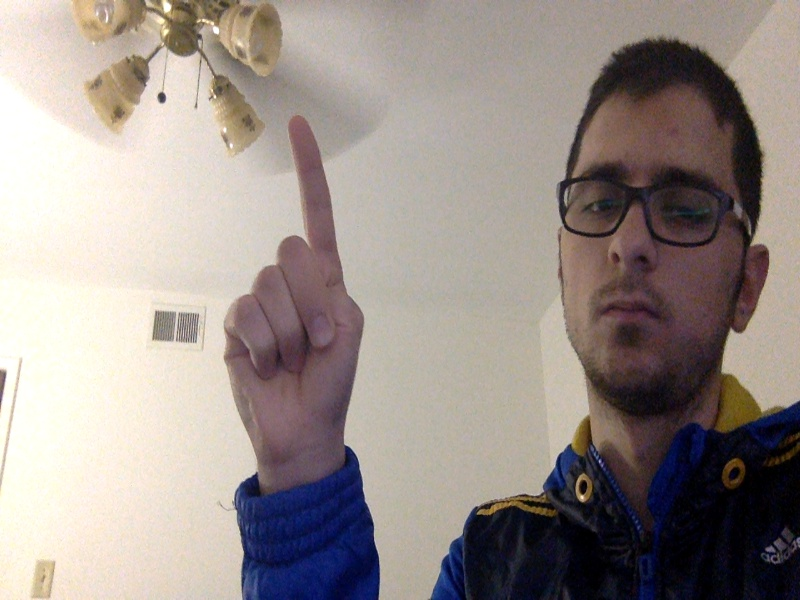1-hand: (226, 116, 366, 468)
